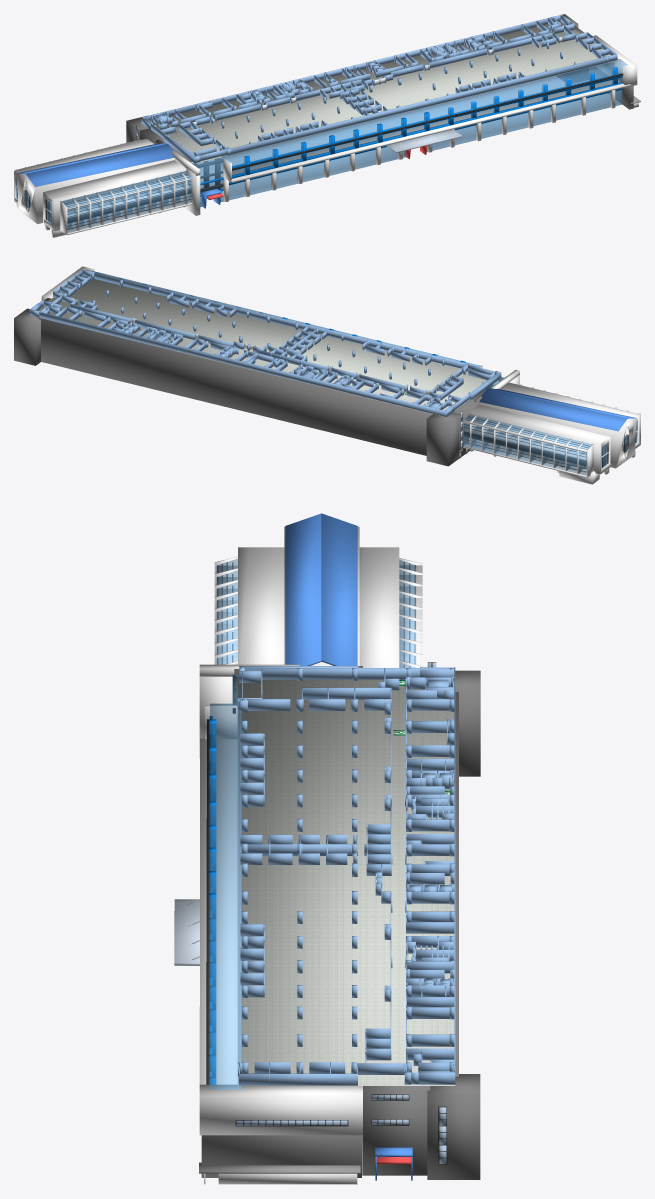
Rendered from ob_5f_mini.gltf.
3 views of the same model, one above another, from view 1: azimuth 30°, elevation 25°; view 2: azimuth 150°, elevation 25°; view 3: azimuth 270°, elevation 25° (orthographic). The views are drawn at different scales.
Parts seen in each view (by area): view 1: ob_dimian_5f, ob_waiguan_5f_215, ob_waiguan_5f_21, ob_waiguan_5f_46, ob_waiguan_5f_212, ob_qiang_5f_213, ob_waiguan_5f_40, ob_waiguan_5f_39, ob_waiguan_5f_105, ob_qiang_5f_251, ob_waiguan_5f_213, ob_waiguan_5f_141 (+20 smaller); view 2: ob_waiguan_5f_35, ob_dimian_5f, ob_waiguan_5f_29, ob_qiang_5f_251, ob_waiguan_5f_211, ob_waiguan_5f_94, ob_qiang_5f_209, ob_waiguan_5f_213, ob_waiguan_5f_163, ob_waiguan_5f_173, ob_waiguan_5f_212, ob_waiguan_5f_215 (+9 smaller); view 3: ob_dimian_5f, ob_waiguan_5f_215, ob_waiguan_5f_46, ob_waiguan_5f_44, ob_waiguan_5f_212, ob_waiguan_5f_94, ob_waiguan_5f_105, ob_waiguan_5f_170, ob_waiguan_5f_211, ob_waiguan_5f_171, ob_waiguan_5f_173, ob_waiguan_5f_163 (+15 smaller).
Boxes of the visible parts, x1,y1,x2,y2 form: ob_dimian_5f: [150, 21, 616, 162]; ob_waiguan_5f_215: [221, 59, 627, 175]; ob_waiguan_5f_21: [62, 171, 191, 232]; ob_waiguan_5f_46: [231, 80, 630, 182]; ob_waiguan_5f_212: [43, 160, 186, 231]; ob_qiang_5f_213: [231, 57, 605, 154]; ob_waiguan_5f_40: [426, 90, 622, 151]; ob_waiguan_5f_39: [229, 147, 406, 200]; ob_waiguan_5f_105: [26, 144, 174, 186]; ob_qiang_5f_251: [142, 17, 550, 120]; ob_waiguan_5f_213: [16, 157, 174, 224]; ob_waiguan_5f_141: [232, 73, 622, 170]; ob_waiguan_5f_35: [38, 318, 432, 455]; ob_dimian_5f: [29, 276, 486, 416]; ob_waiguan_5f_29: [463, 414, 591, 475]; ob_qiang_5f_251: [39, 312, 446, 416]; ob_waiguan_5f_211: [469, 405, 610, 474]; ob_waiguan_5f_94: [479, 388, 627, 431]; ob_qiang_5f_209: [94, 273, 464, 368]; ob_waiguan_5f_213: [478, 402, 636, 468]; ob_waiguan_5f_163: [426, 412, 460, 466]; ob_waiguan_5f_173: [14, 308, 40, 365]; ob_waiguan_5f_212: [501, 383, 640, 451]; ob_waiguan_5f_215: [82, 269, 481, 368]; ob_dimian_5f: [237, 679, 455, 1085]; ob_waiguan_5f_215: [209, 703, 241, 1089]; ob_waiguan_5f_46: [199, 738, 237, 1084]; ob_waiguan_5f_44: [199, 1084, 362, 1135]; ob_waiguan_5f_212: [238, 547, 284, 664]; ob_waiguan_5f_94: [321, 513, 357, 665]; ob_waiguan_5f_105: [285, 513, 321, 665]; ob_waiguan_5f_170: [201, 1135, 361, 1177]; ob_waiguan_5f_211: [359, 547, 399, 667]; ob_waiguan_5f_171: [362, 1086, 430, 1175]; ob_waiguan_5f_173: [427, 1074, 480, 1179]; ob_waiguan_5f_163: [455, 670, 480, 776].
Bounding box in the file's own units: 398 × 35.56 × 90.94.
Materials: 24 (10 with a texture image).
